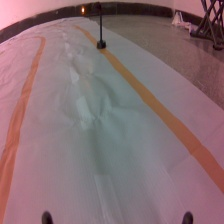yellow: (80, 1, 107, 51)
